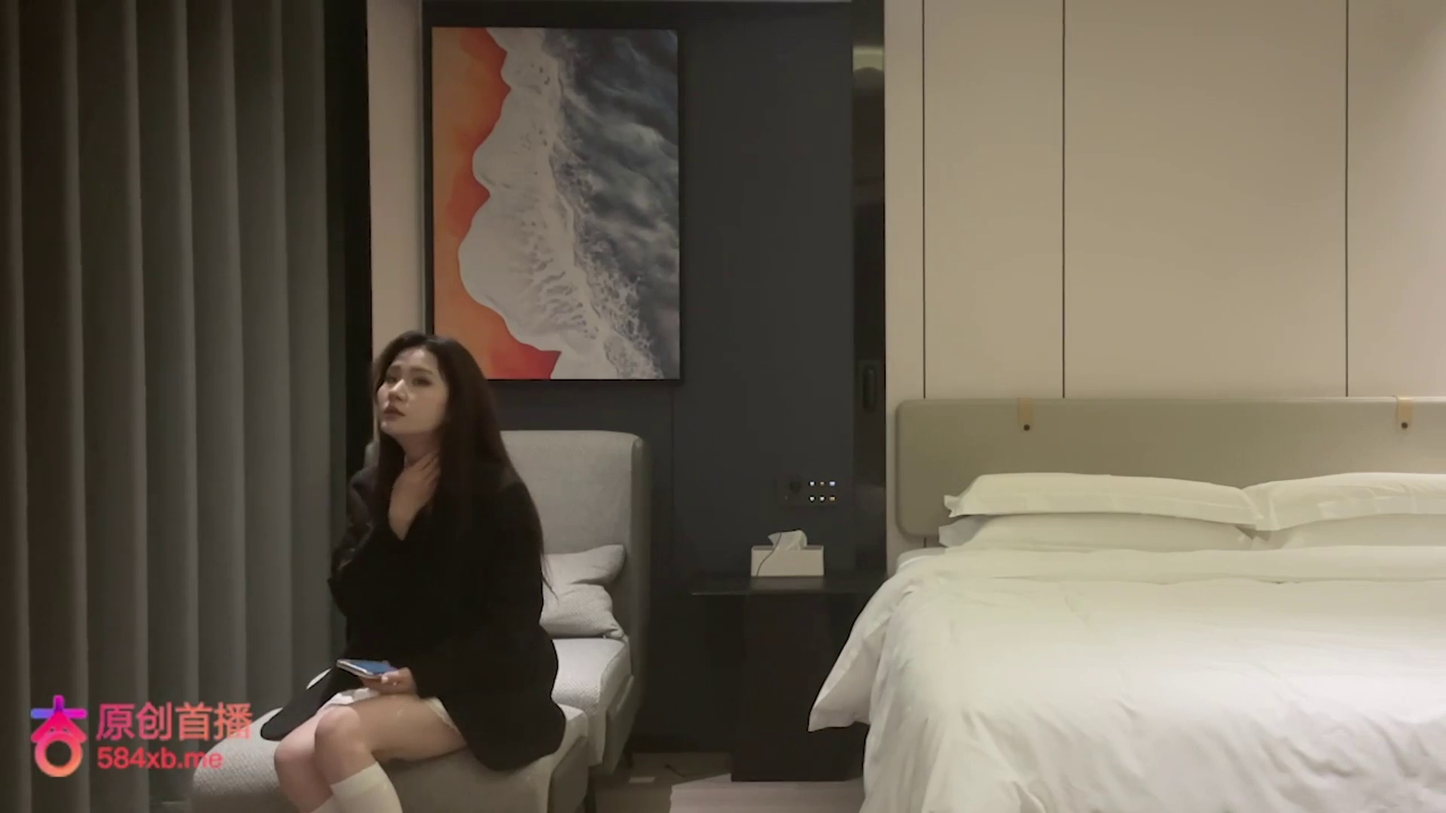sit: (266, 330, 567, 809)
